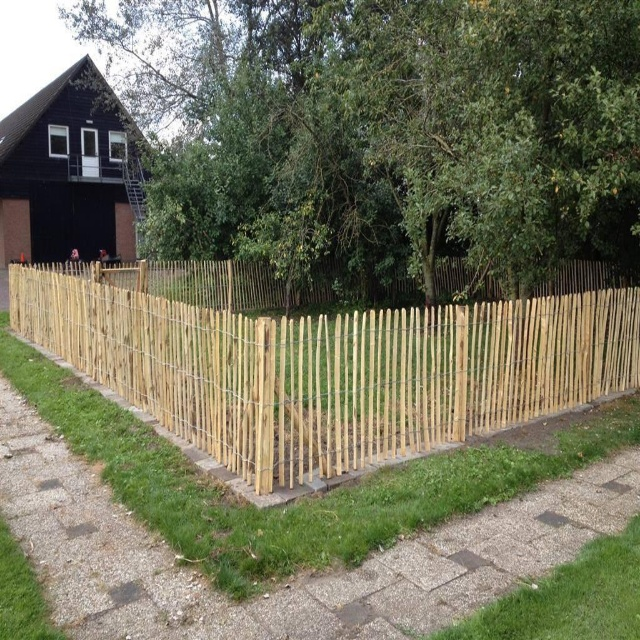obstacle: (196, 0, 640, 638)
